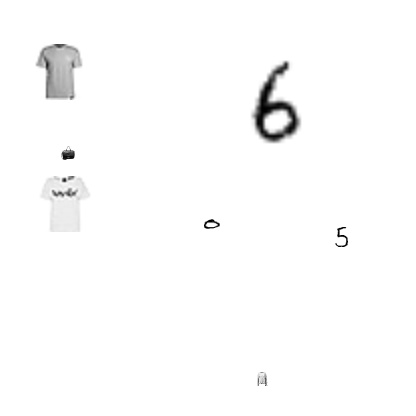0: (200, 213, 222, 235)
5: (328, 223, 356, 251)
6: (216, 50, 328, 162)
Bag: (61, 146, 75, 160)
Shirt: (255, 372, 269, 386)
T-shirt/top: (30, 44, 86, 100), (36, 176, 92, 232)
